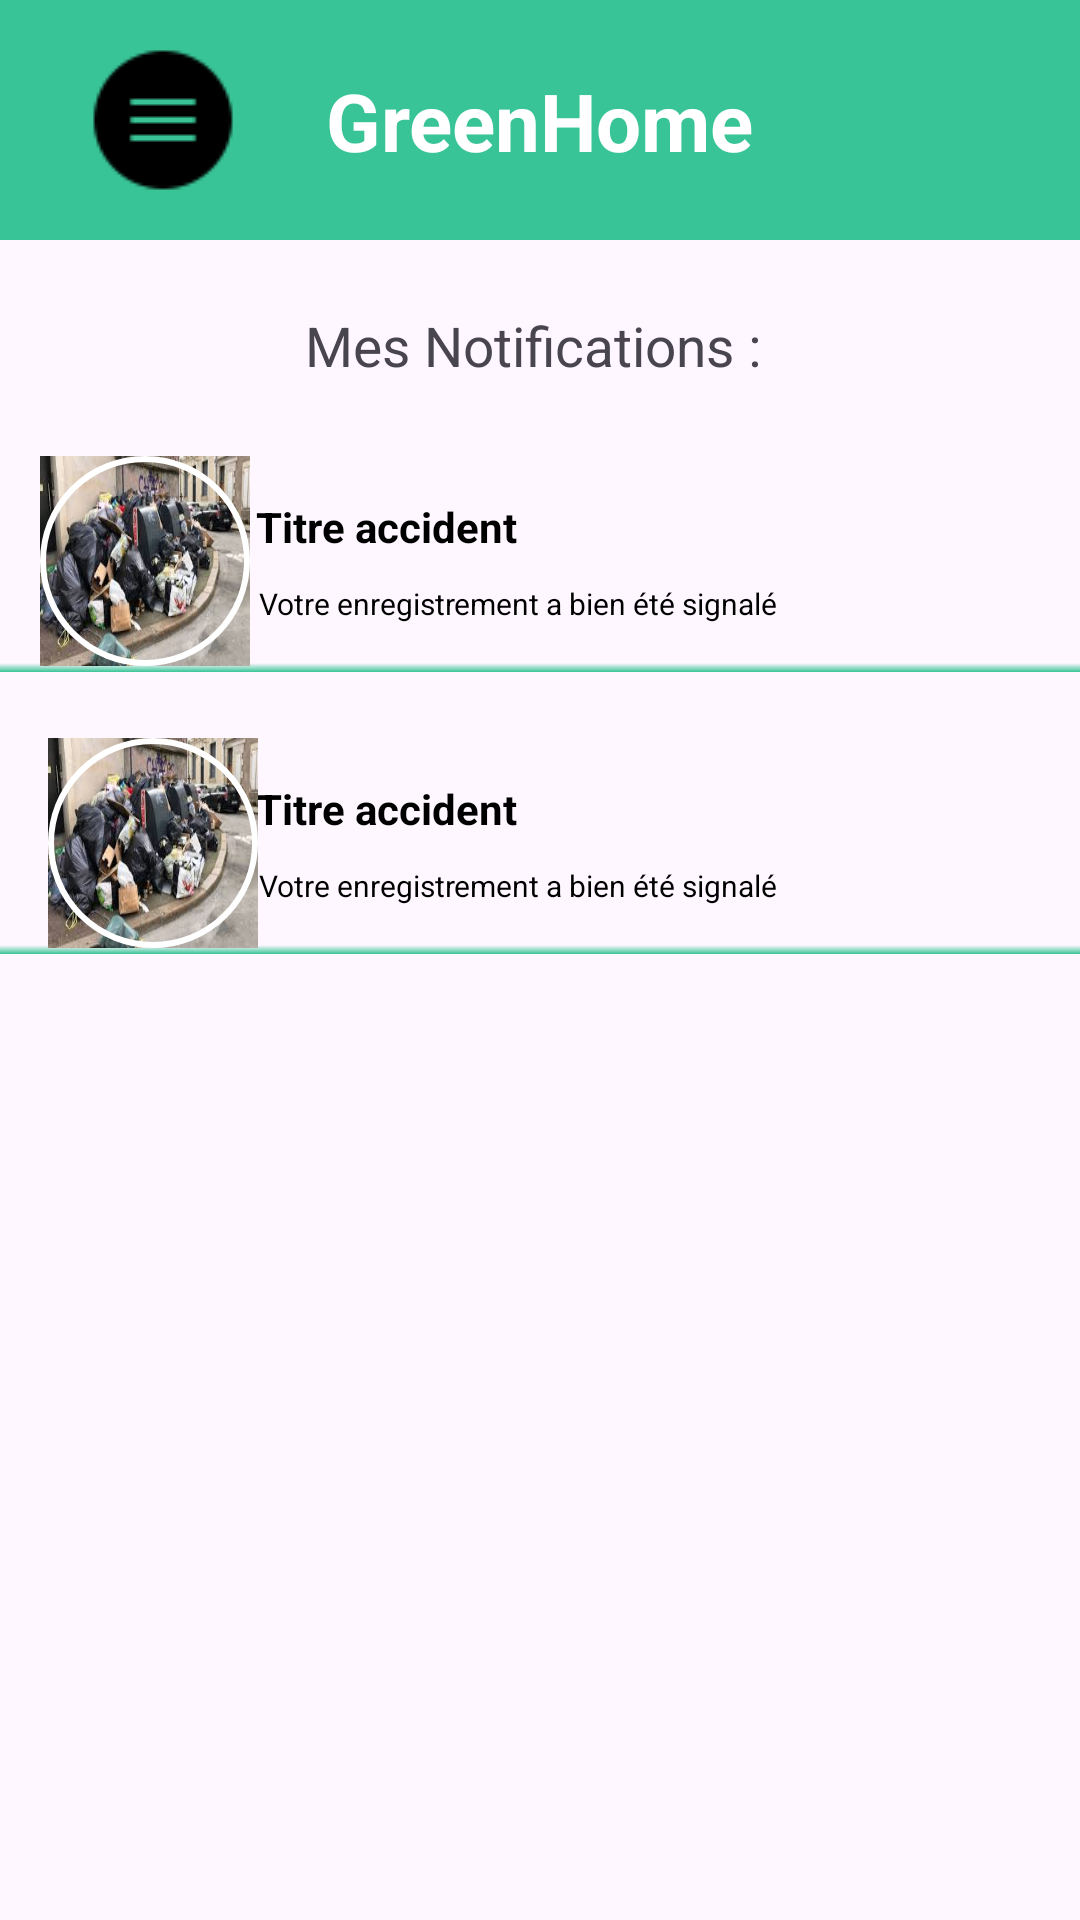

Icons on this 1080x1920 Android screen, each with its box as [left=x1, top=y1, right=x2, bottom=y2]:
bars: [left=93, top=50, right=233, bottom=190]
